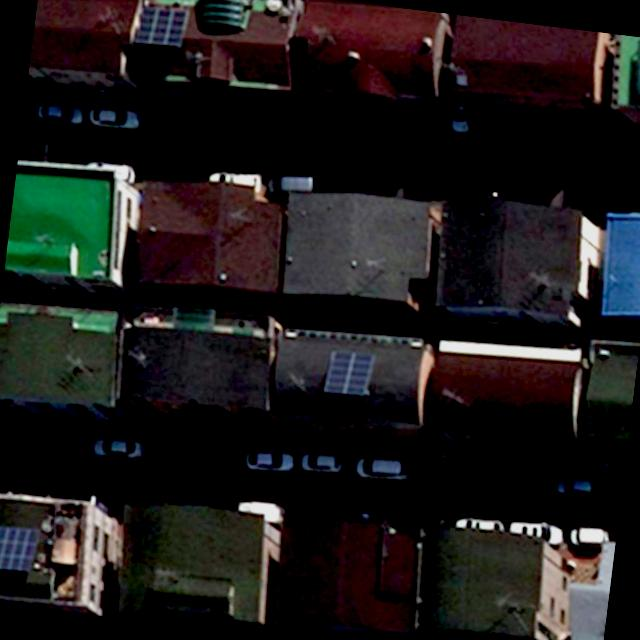solar: (319, 345, 377, 400), (131, 1, 193, 51), (0, 520, 42, 576)
